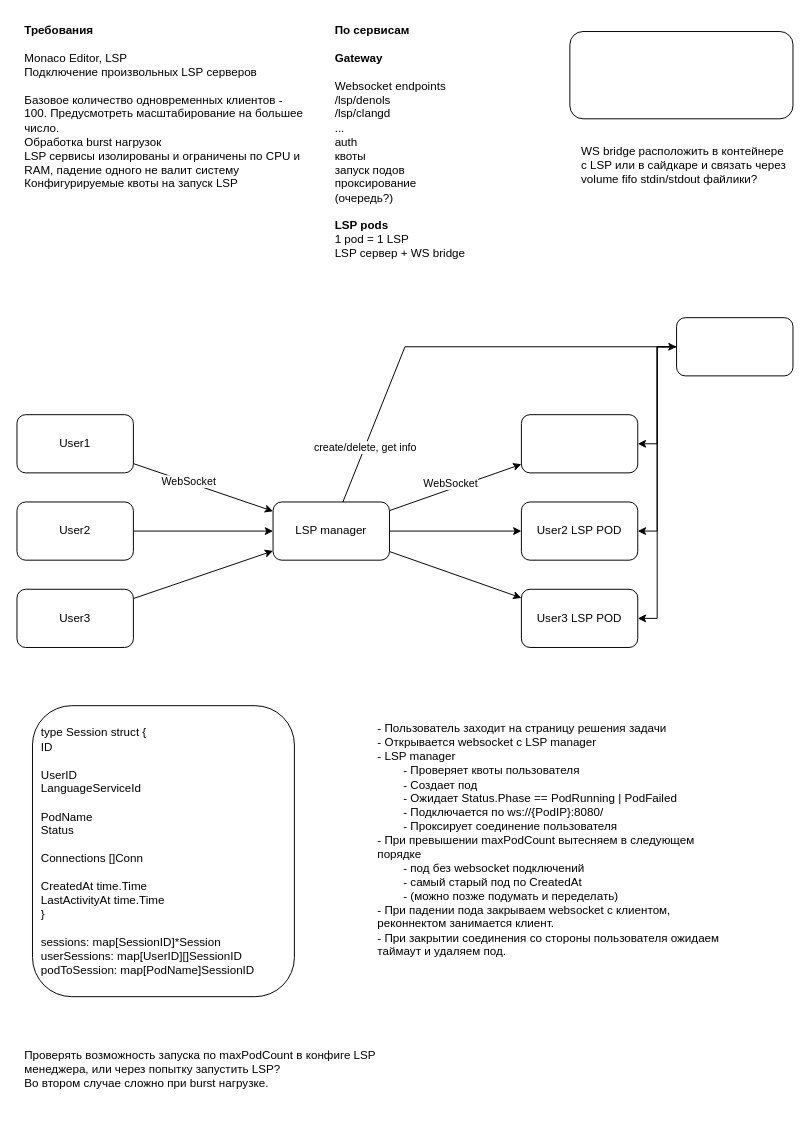
The diagram is 810 pixels wide and 1139 high, and some of its shapes have lost their labels. Each missing label, with the box of its shape:
KubeAPI: (676, 317, 793, 376)
User1 LSP POD: (520, 414, 638, 473)
Образ LSP + WS bridge Запуск типа "node tsserver | ws-bridge": (569, 31, 793, 119)
